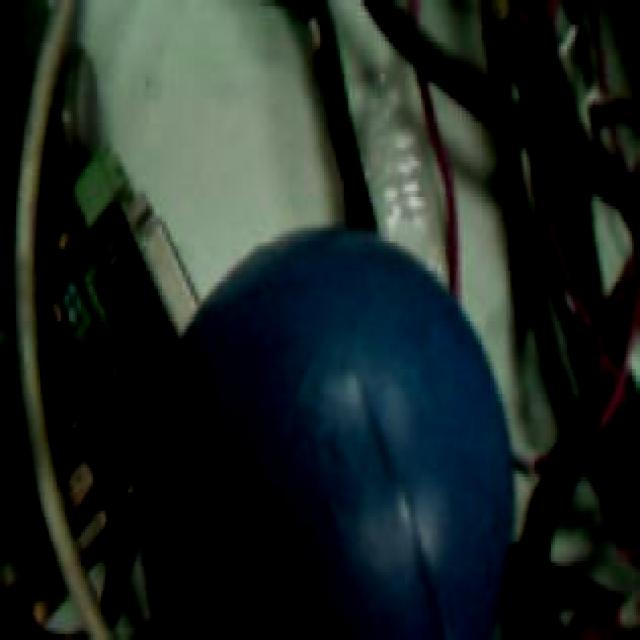BallPurple: (150, 227, 514, 640)
